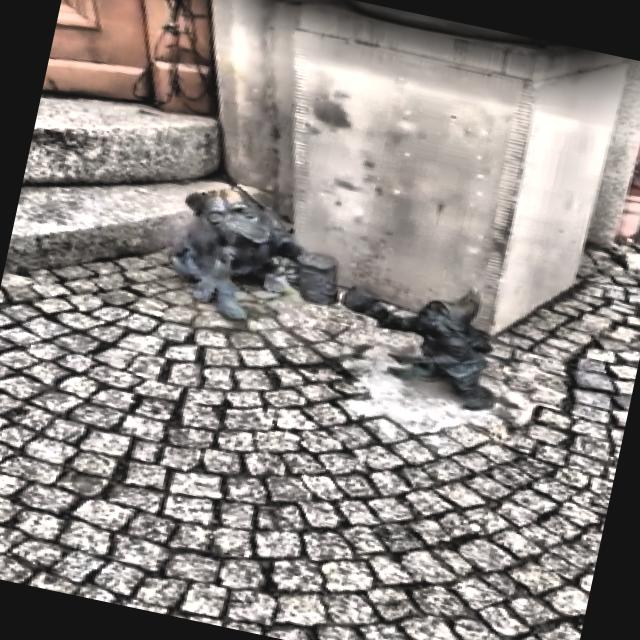Piwozlopek_ i_Piesel_Piwosz: (171, 185, 337, 320), (348, 288, 493, 410)
